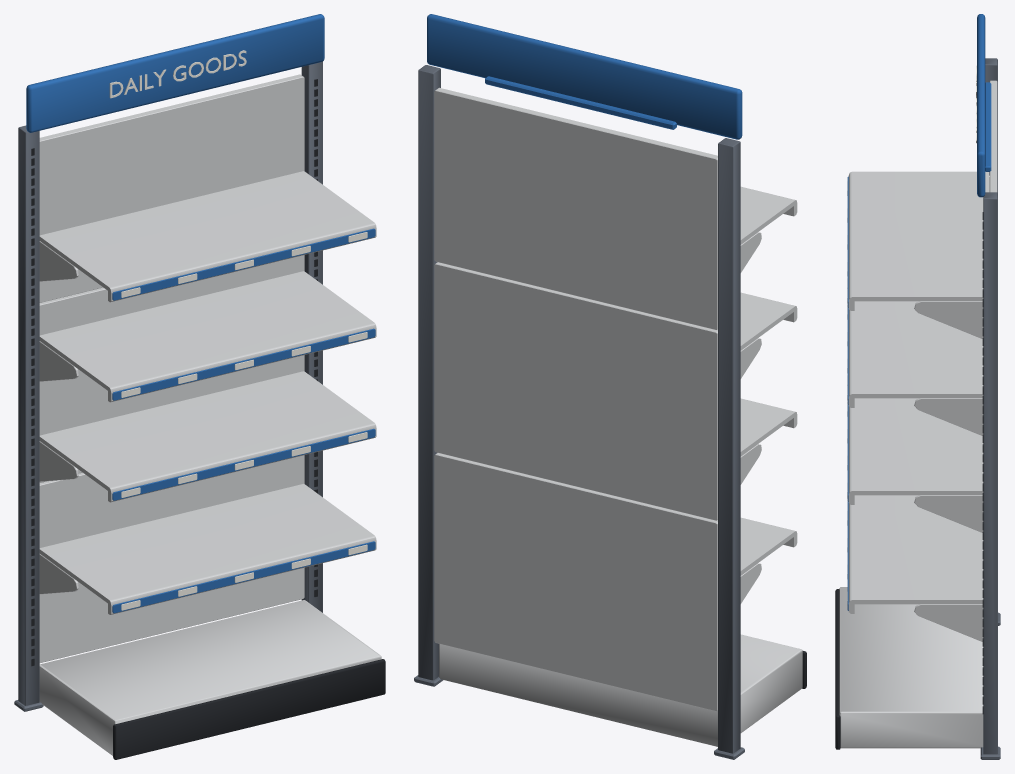
File: Shelf.fbx
The picture shows the model from 3 angles, left to right: view 1: azimuth 30°, elevation 25°; view 2: azimuth 150°, elevation 25°; view 3: azimuth 270°, elevation 25°; orthographic projection. The views are drawn at different scales.
Parts seen in each view (by area): view 1: Shelf_BackPanel, Shelf_Base, Shelf_Board_3, Shelf_Board_2, Shelf_Board_4, Shelf_Board_1, Shelf_Uprights, Shelf_Header, Shelf_KickPlate, Shelf_PriceStrips, Shelf_PriceTags, Shelf_UprightSlots (+1 smaller); view 2: Shelf_BackPanel, Shelf_Uprights, Shelf_Header, Shelf_Base, Shelf_Board_4, Shelf_Board_2, Shelf_Board_1, Shelf_Board_3; view 3: Shelf_Base, Shelf_Board_4, Shelf_Board_1, Shelf_Board_3, Shelf_Board_2, Shelf_Uprights, Shelf_Header, Shelf_PriceStrips, Shelf_UprightSlots, Shelf_KickPlate, Shelf_BackPanel.
Part boxes in pixels (x1=…): Shelf_BackPanel: x1=39, y1=74, x2=304, y2=662; Shelf_Base: x1=39, y1=600, x2=381, y2=755; Shelf_Board_3: x1=39, y1=271, x2=376, y2=402; Shelf_Board_2: x1=39, y1=371, x2=376, y2=502; Shelf_Board_4: x1=39, y1=171, x2=376, y2=302; Shelf_Board_1: x1=39, y1=484, x2=376, y2=614; Shelf_Uprights: x1=14, y1=61, x2=322, y2=711; Shelf_Header: x1=26, y1=14, x2=324, y2=132; Shelf_KickPlate: x1=113, y1=659, x2=385, y2=759; Shelf_PriceStrips: x1=112, y1=228, x2=375, y2=613; Shelf_PriceTags: x1=121, y1=232, x2=367, y2=610; Shelf_UprightSlots: x1=31, y1=79, x2=317, y2=666; Shelf_BackPanel: x1=434, y1=87, x2=717, y2=711; Shelf_Uprights: x1=414, y1=65, x2=744, y2=759; Shelf_Header: x1=427, y1=14, x2=742, y2=139; Shelf_Base: x1=439, y1=634, x2=802, y2=746; Shelf_Board_4: x1=740, y1=186, x2=797, y2=272; Shelf_Board_2: x1=740, y1=398, x2=797, y2=484; Shelf_Board_1: x1=740, y1=517, x2=797, y2=603; Shelf_Board_3: x1=740, y1=292, x2=797, y2=378; Shelf_Base: x1=839, y1=587, x2=983, y2=748; Shelf_Board_4: x1=848, y1=171, x2=989, y2=338; Shelf_Board_1: x1=848, y1=495, x2=983, y2=641; Shelf_Board_3: x1=848, y1=301, x2=983, y2=435; Shelf_Board_2: x1=848, y1=398, x2=983, y2=532; Shelf_Uprights: x1=980, y1=58, x2=1000, y2=759; Shelf_Header: x1=977, y1=14, x2=991, y2=197; Shelf_PriceStrips: x1=847, y1=176, x2=848, y2=610; Shelf_UprightSlots: x1=982, y1=212, x2=983, y2=713; Shelf_KickPlate: x1=835, y1=589, x2=840, y2=749; Shelf_BackPanel: x1=990, y1=80, x2=997, y2=192.
Size of the model in its own units: 102 by 200 by 49.4.
